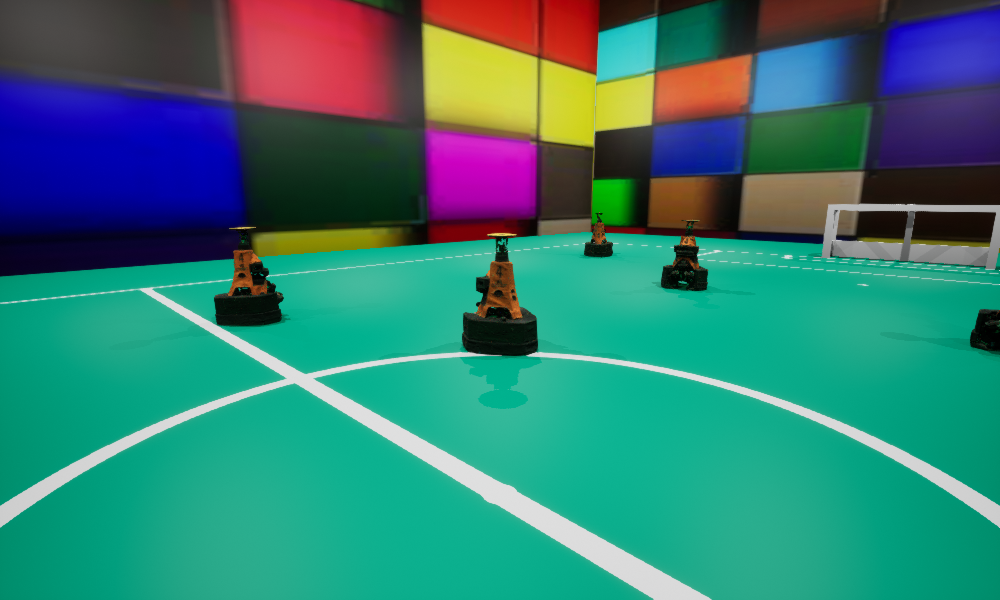0 orange robot TechUnited: (462, 233, 537, 355), (214, 227, 283, 325), (661, 220, 707, 289), (584, 212, 612, 256), (970, 309, 999, 350)
